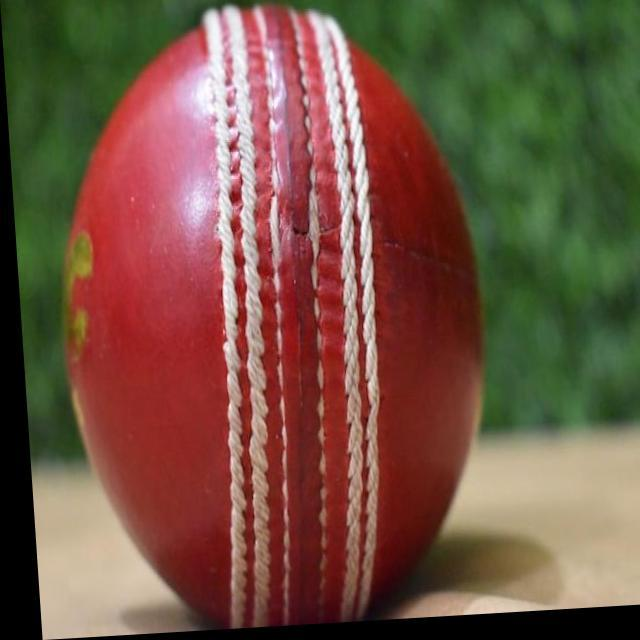cricket ball: (58, 8, 477, 629)
